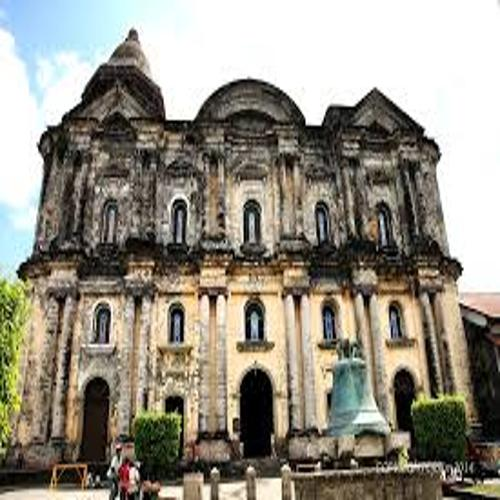Taal Basilica Church: (16, 21, 483, 468)
